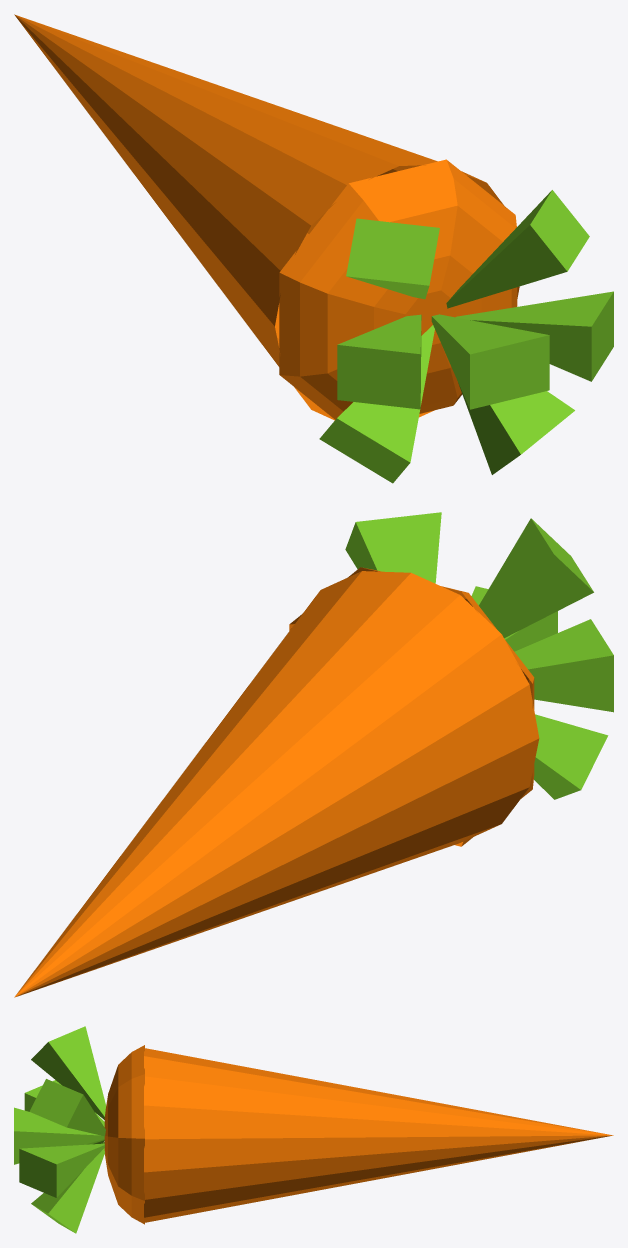
3 renders of one model, top to bottom at view 1: azimuth 30°, elevation 25°; view 2: azimuth 150°, elevation 25°; view 3: azimuth 270°, elevation 25°, orthographic. The views are drawn at different scales.
Parts seen in each view (by area): view 1: carrot; view 2: carrot; view 3: carrot.
Boxes of the visible parts, bbox=[...] form: carrot: bbox=[14, 14, 613, 483]; carrot: bbox=[14, 512, 613, 997]; carrot: bbox=[14, 1026, 613, 1233].
Bounding box in the file's own units: 53.92 × 50.8 × 169.
